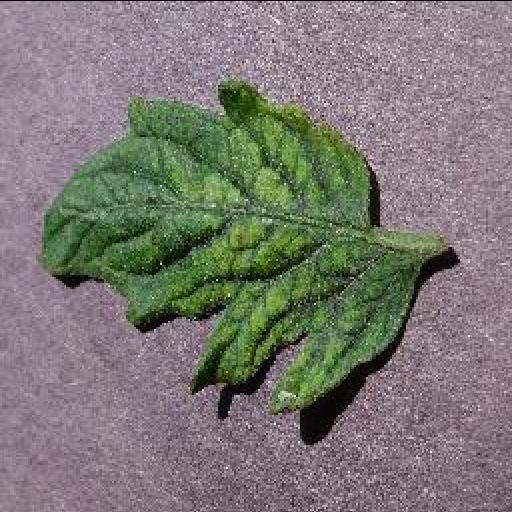Mosaic Virus: (37, 77, 423, 415)
